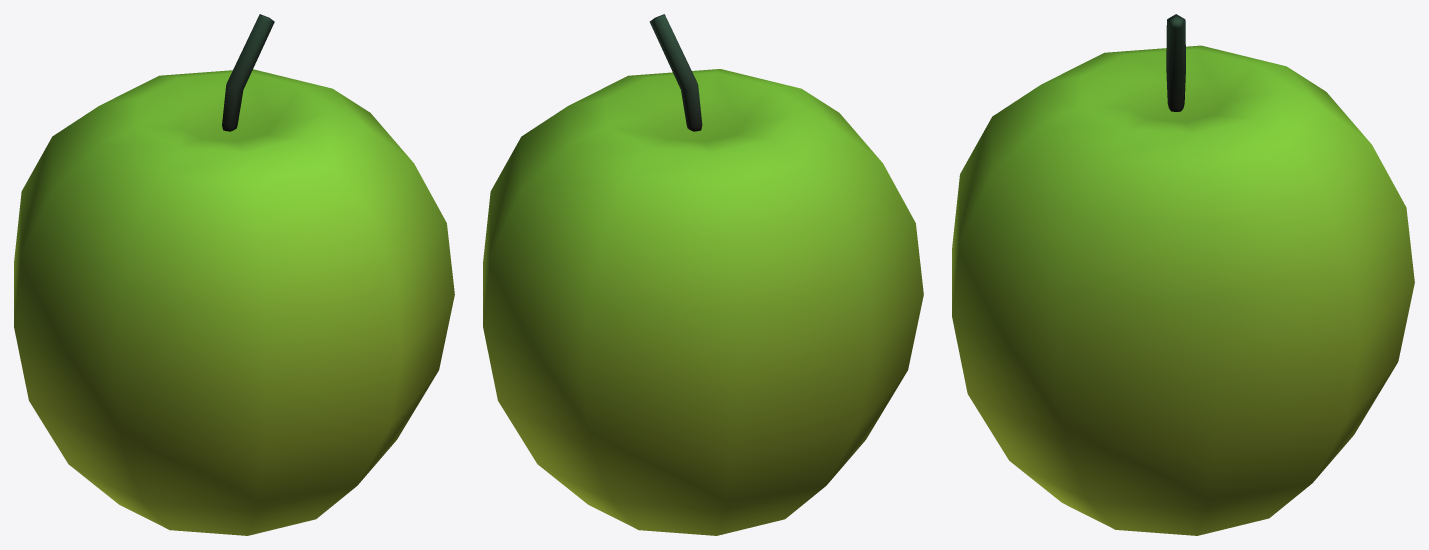
File: consumables-fruits-apple_v1.glb
The picture shows the model from 3 angles, left to right: view 1: azimuth 30°, elevation 25°; view 2: azimuth 150°, elevation 25°; view 3: azimuth 270°, elevation 25°; orthographic projection. The views are drawn at different scales.
Visible parts, largest first — view 1: Apple_v1; view 2: Apple_v1; view 3: Apple_v1.
Boxes of the visible parts, x1,y1,x2,y2 form: Apple_v1: (14,14,454,535); Apple_v1: (483,14,923,535); Apple_v1: (952,14,1414,535).
Bounding box in the file's own units: 0.0938 × 0.1141 × 0.0924.
